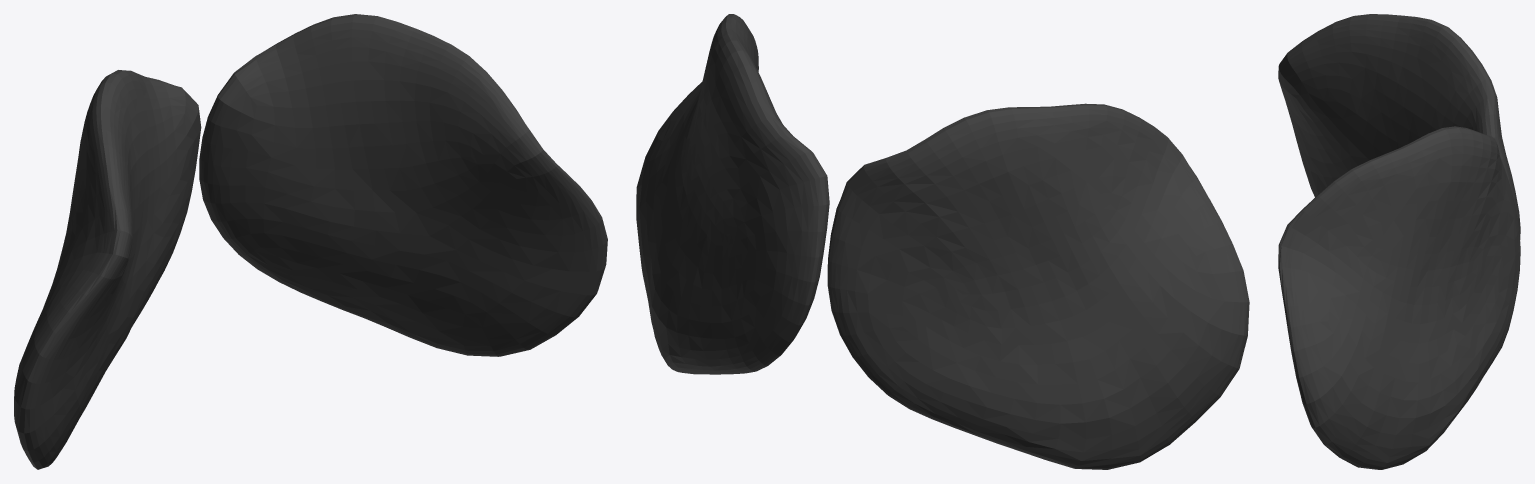
File: m_cricothyroideus_LO.glb
The picture shows the model from 3 angles, left to right: view 1: azimuth 30°, elevation 25°; view 2: azimuth 150°, elevation 25°; view 3: azimuth 270°, elevation 25°; orthographic projection. The views are drawn at different scales.
Visible parts, largest first — view 1: m_cricothyroideus_LO; view 2: m_cricothyroideus_LO; view 3: m_cricothyroideus_LO.
Part boxes in pixels (x1,y1,x2,y2): m_cricothyroideus_LO: (14,14,607,469); m_cricothyroideus_LO: (636,14,1249,469); m_cricothyroideus_LO: (1278,14,1520,469).
Size of the model in its own units: 0.3607 by 0.2021 by 0.1488.
Materials: 1 (1 with a texture image).
